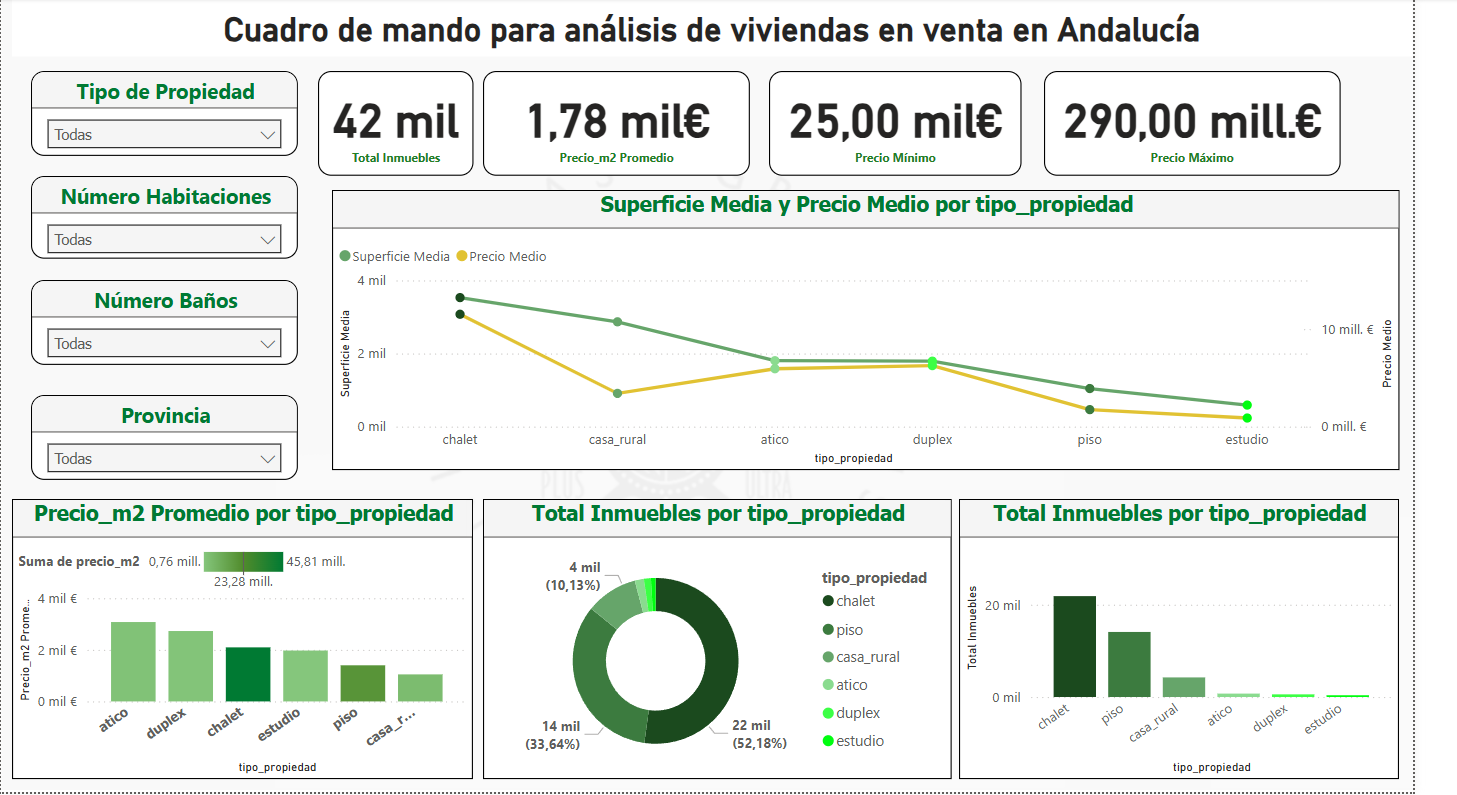

What the dashboard file says about the page in this screenshot:
{"tool":"powerbi","page":{"name":"Análisis General","canvas":[1280,720],"ordinal":1},"visuals":[{"type":"card","fields":{"Values":["andalucia_clean_20250528.Título_v1"]},"box":[10.4,0,1269.6,52.8],"z":0},{"type":"slicer","title":"Tipo de Propiedad","fields":{"Values":["andalucia_clean_20250528.tipo_propiedad"]},"box":[27.3,66,242.2,77.3],"z":1},{"type":"slicer","title":"Número Habitaciones","fields":{"Values":["andalucia_clean_20250528.habitaciones"]},"box":[27.3,161.2,242.2,75.4],"z":2},{"type":"slicer","title":"Número Baños","fields":{"Values":["andalucia_clean_20250528.baños"]},"box":[27.3,255.4,242.2,77.3],"z":3},{"type":"card","title":"Número Baños","fields":{"Values":["andalucia_clean_20250528.Total Inmuebles"]},"box":[287.5,66,141.4,95.2],"z":4},{"type":"card","title":"Número Baños","fields":{"Values":["andalucia_clean_20250528.Precio Mínimo"]},"box":[696.6,66,229,95.2],"z":6},{"type":"card","title":"Número Baños","fields":{"Values":["andalucia_clean_20250528.Precio Máximo"]},"box":[945.4,66,268.6,95.2],"z":7},{"type":"card","title":"Número Baños","fields":{"Values":["andalucia_clean_20250528.Precio_m2 Promedio"]},"box":[437.3,66,242.2,95.2],"z":9},{"type":"slicer","title":"Provincia","fields":{"Values":["andalucia_clean_20250528.Province"]},"box":[27.3,360.1,242.2,77.3],"z":10},{"type":"donutChart","fields":{"Category":["andalucia_clean_20250528.tipo_propiedad"],"Y":["andalucia_clean_20250528.Total Inmuebles"]},"box":[437.3,454.3,425.1,253.5],"z":11},{"type":"funnel","fields":{"Category":["andalucia_clean_20250528.tipo_propiedad"],"Y":["andalucia_clean_20250528.Total Inmuebles"]},"box":[869,454.3,398.7,253.5],"z":12},{"type":"columnChart","fields":{"Category":["andalucia_clean_20250528.tipo_propiedad"],"Y":["andalucia_clean_20250528.Precio_m2 Promedio"]},"box":[10.4,454.3,418.5,253.5],"z":13},{"type":"lineChart","fields":{"Category":["andalucia_clean_20250528.tipo_propiedad"],"Y":["andalucia_clean_20250528.Superficie Media"],"Y2":["andalucia_clean_20250528.Precio Medio"]},"box":[299.7,174.4,968,253.5],"z":14}]}

Visuals, with their boxes on the page's 1280x720 design canvas (x1, y1, x2, y2). These are canvas units, not pixel positions in the 1457x795 screenshot, which may show the page scaled, cropped or inside an application window:
card - andalucia_clean_20250528.Título_v1: (x1=10, y1=0, x2=1280, y2=53)
"Tipo de Propiedad" slicer: (x1=27, y1=66, x2=270, y2=143)
"Número Habitaciones" slicer: (x1=27, y1=161, x2=270, y2=237)
"Número Baños" slicer: (x1=27, y1=255, x2=270, y2=333)
"Número Baños" card: (x1=288, y1=66, x2=429, y2=161)
"Número Baños" card: (x1=697, y1=66, x2=926, y2=161)
"Número Baños" card: (x1=945, y1=66, x2=1214, y2=161)
"Número Baños" card: (x1=437, y1=66, x2=680, y2=161)
"Provincia" slicer: (x1=27, y1=360, x2=270, y2=437)
donutChart - andalucia_clean_20250528.tipo_propiedad x andalucia_clean_20250528.Total Inmuebles: (x1=437, y1=454, x2=862, y2=708)
funnel - andalucia_clean_20250528.tipo_propiedad x andalucia_clean_20250528.Total Inmuebles: (x1=869, y1=454, x2=1268, y2=708)
columnChart - andalucia_clean_20250528.tipo_propiedad x andalucia_clean_20250528.Precio_m2 Promedio: (x1=10, y1=454, x2=429, y2=708)
lineChart - andalucia_clean_20250528.tipo_propiedad x andalucia_clean_20250528.Superficie Media: (x1=300, y1=174, x2=1268, y2=428)
